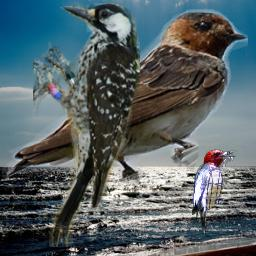Swallow: (1, 7, 248, 186)
Woodpecker: (33, 3, 140, 247), (192, 149, 237, 237)
